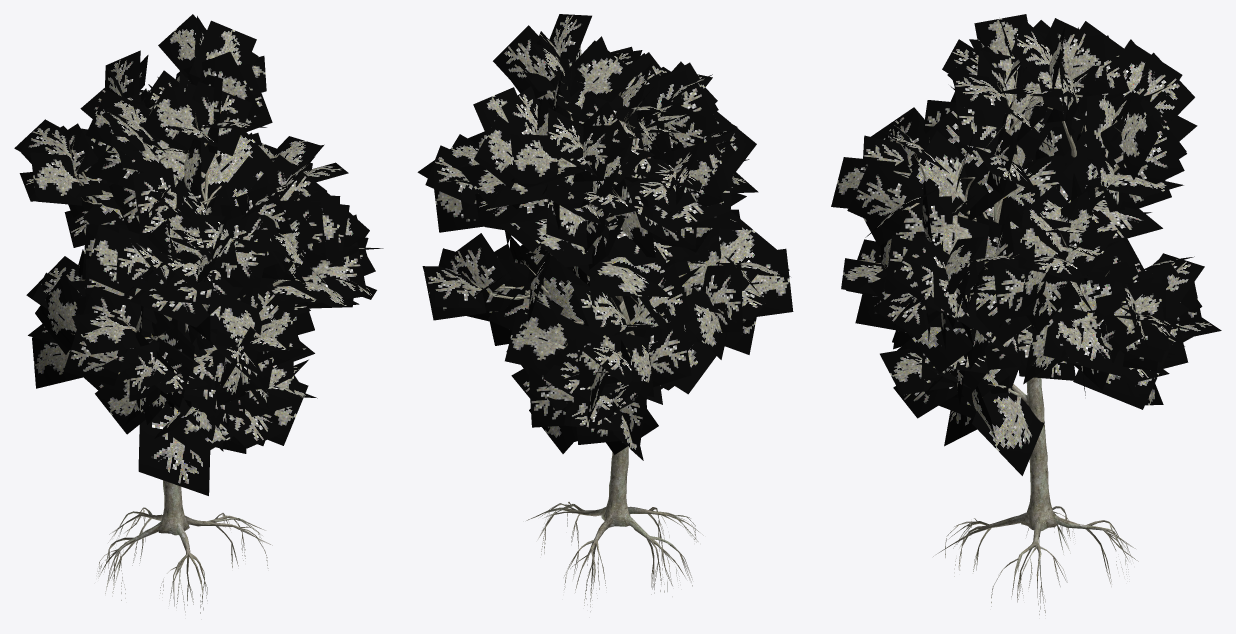
File: Red_Maple_Hero_Young_Winter-transformed.glb
3 renders of one model, left to right at view 1: azimuth 30°, elevation 25°; view 2: azimuth 150°, elevation 25°; view 3: azimuth 270°, elevation 25°, orthographic. The views are drawn at different scales.
Visible parts, largest first — view 1: Red_Maple_Hero_Young_Winter_LOD0; view 2: Red_Maple_Hero_Young_Winter_LOD0; view 3: Red_Maple_Hero_Young_Winter_LOD0.
Boxes of the visible parts, bbox=[...] form: Red_Maple_Hero_Young_Winter_LOD0: bbox=[14, 14, 383, 613]; Red_Maple_Hero_Young_Winter_LOD0: bbox=[417, 14, 793, 611]; Red_Maple_Hero_Young_Winter_LOD0: bbox=[831, 14, 1221, 615].
Size of the model in its own units: 7.19 by 11.88 by 7.06.
2 materials, 2 textured.
